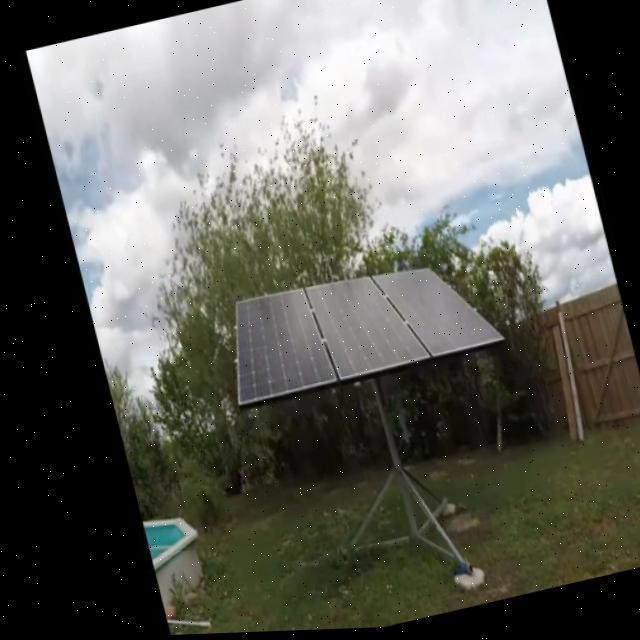Normal Solar Panel: (302, 266, 428, 386), (371, 254, 502, 368), (213, 286, 334, 408)
